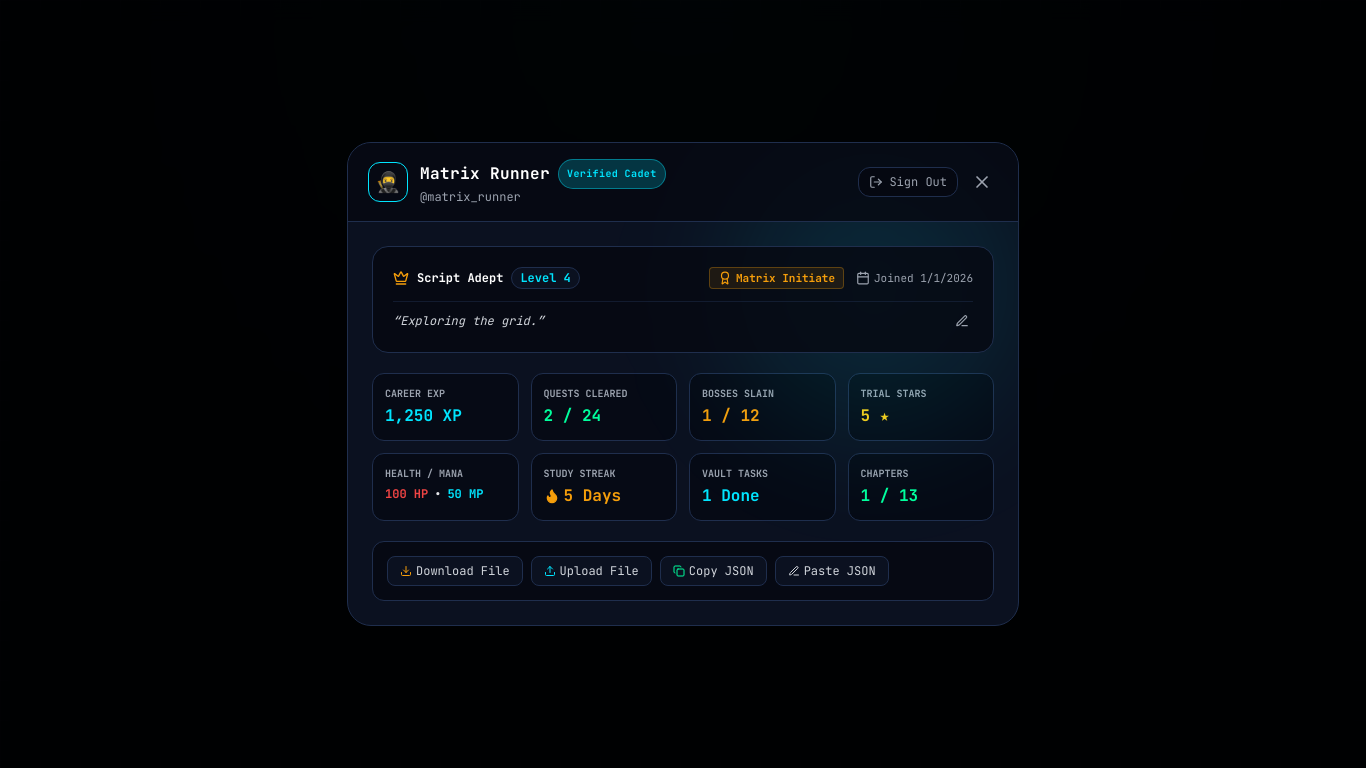
Test: ProfileModal Component › handles copy save JSON to clipboard with feedback
Click the button titled "Copy Save Backup JSON to Clipboard". click: [713, 571]
box: [660,556,767,586]
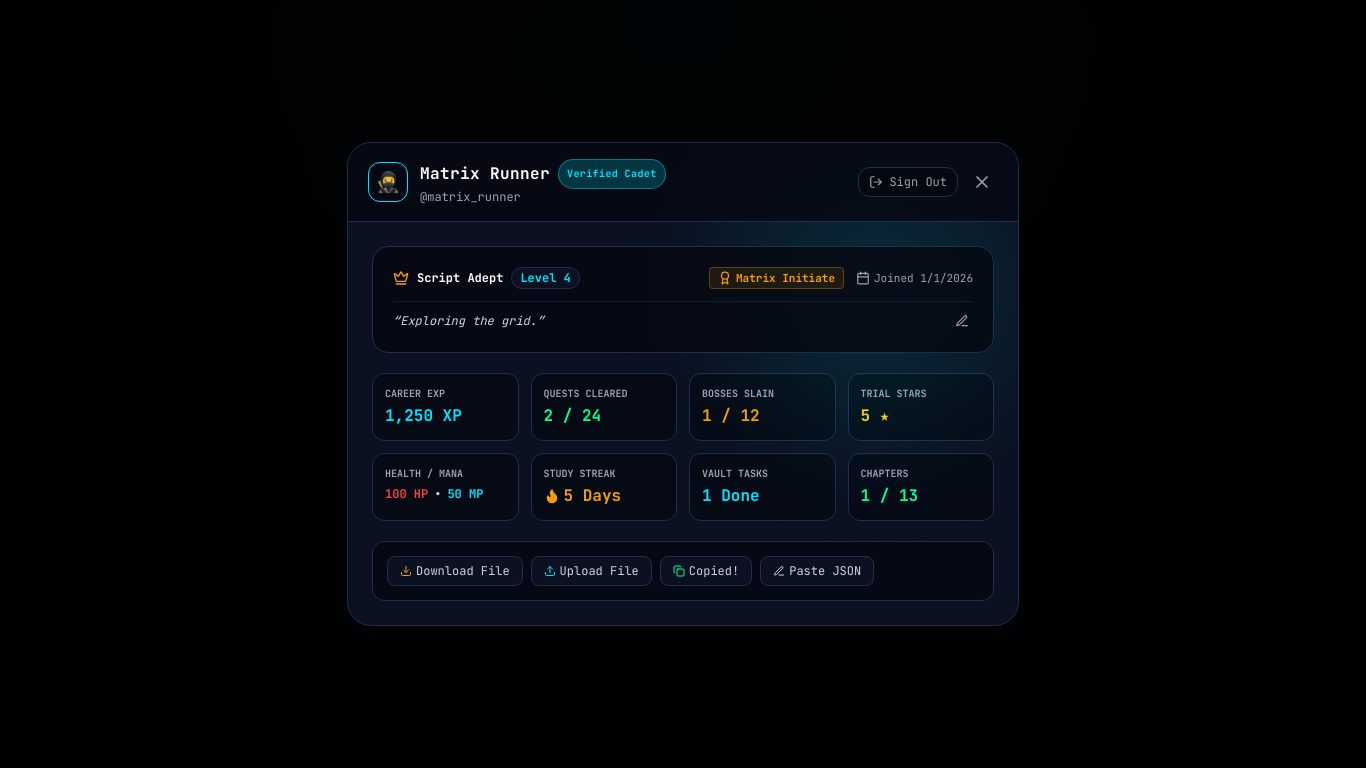
Now the text "Copied!" is shown, box [689,563,739,579]
